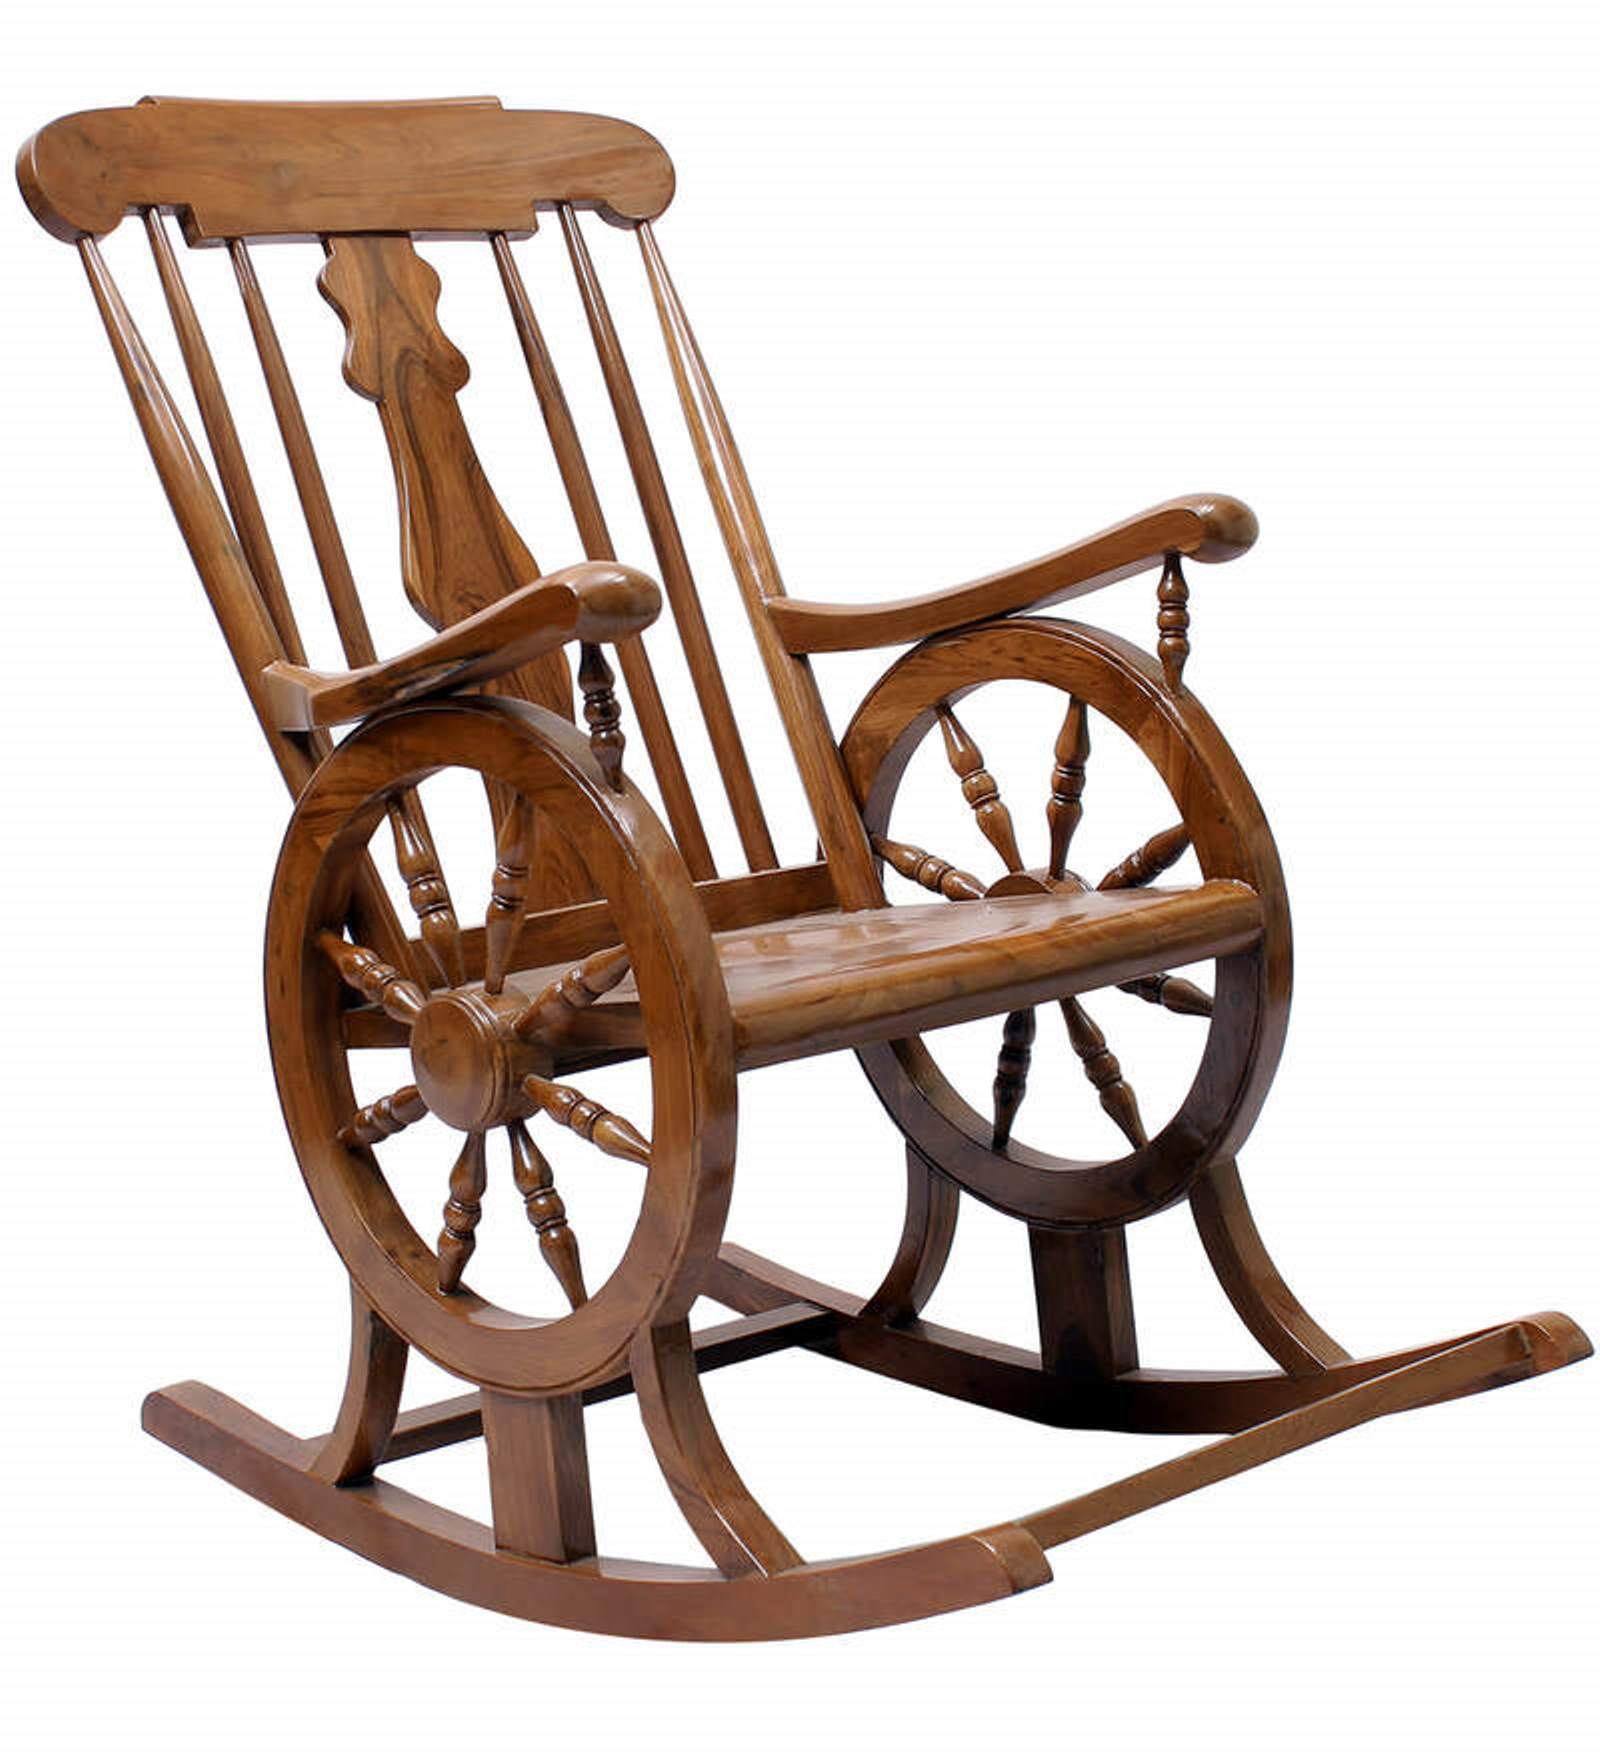Chelmsford Teak Wood Rocking Chair in Composite Teak Finish by Finesse: (17, 71, 1600, 1654)
